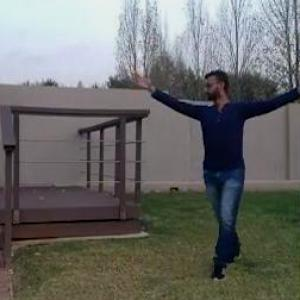takeoff: (130, 66, 299, 278)
